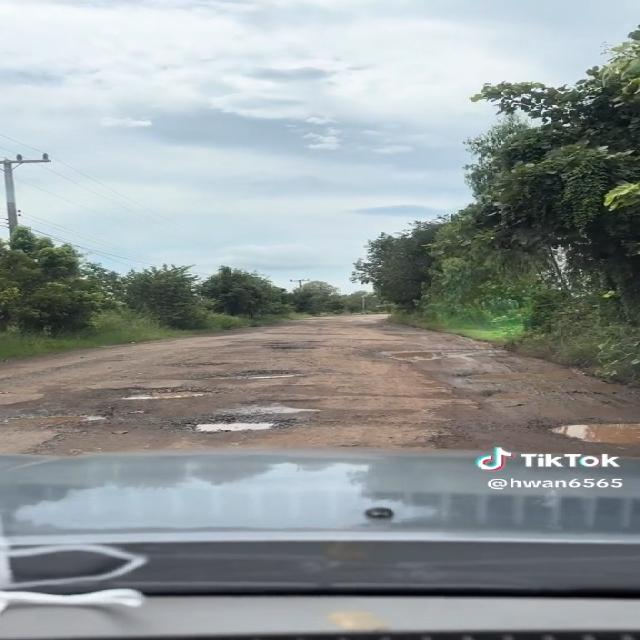Poth-hole: (162, 338, 282, 380)
